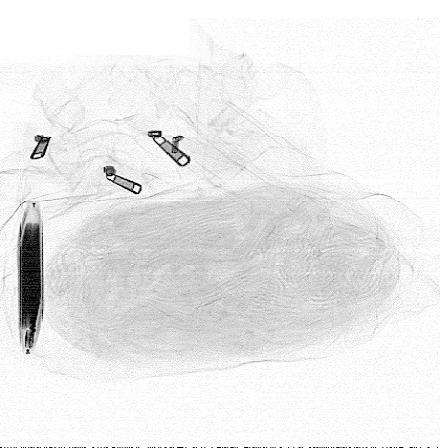Powerbank: (17, 200, 44, 355)
